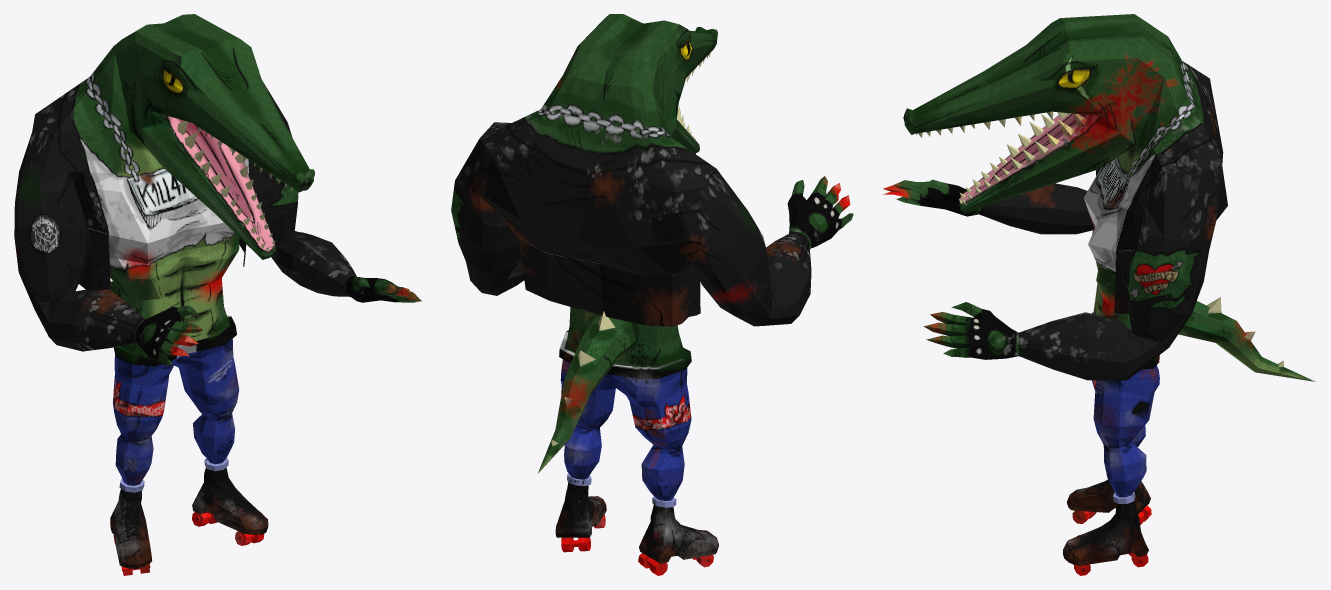
Rendered from cocodrilaBonesSelect_000027.obj.
3 views of the same model, side by side, from view 1: azimuth 30°, elevation 25°; view 2: azimuth 150°, elevation 25°; view 3: azimuth 270°, elevation 25° (orthographic).
Visible parts, largest first — view 1: Crocodile.002_Cylinder.002; view 2: Crocodile.002_Cylinder.002; view 3: Crocodile.002_Cylinder.002.
Boxes of the visible parts, box(x1,y1,x2,y2) form: Crocodile.002_Cylinder.002: box(14, 14, 422, 575); Crocodile.002_Cylinder.002: box(451, 14, 853, 575); Crocodile.002_Cylinder.002: box(883, 14, 1315, 575).
Bounding box in the file's own units: 4.17 × 6.72 × 5.07.
